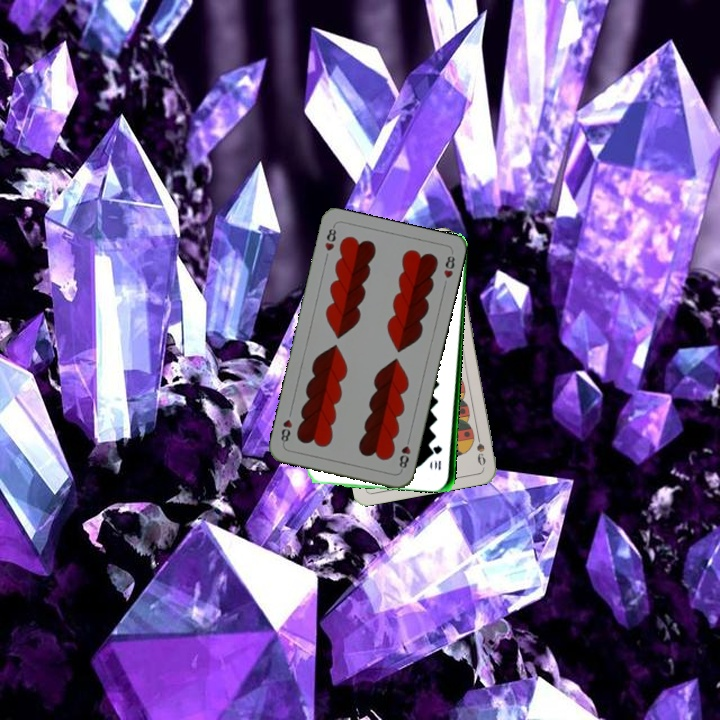G10: (431, 441, 445, 472)
H8: (395, 433, 413, 473), (321, 222, 339, 254)
S9: (472, 428, 488, 468)
